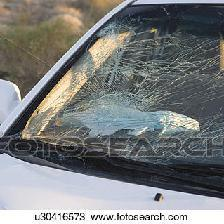broken_glass: (24, 2, 223, 194)
